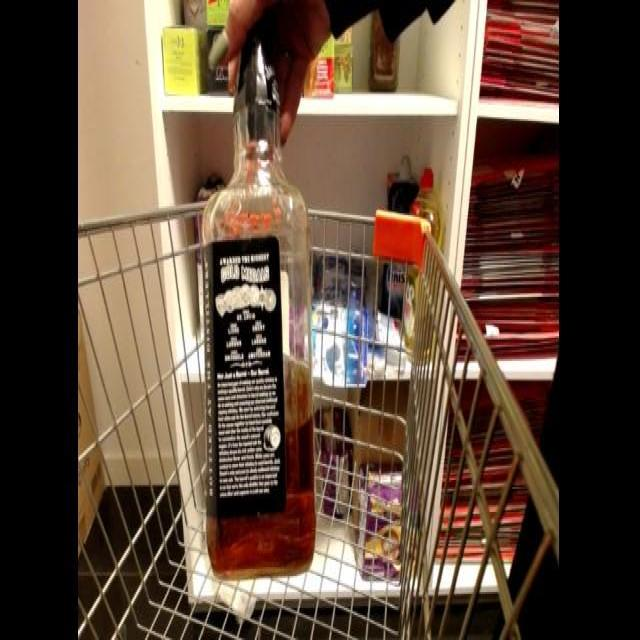Jack Daniels: (181, 12, 323, 607)
